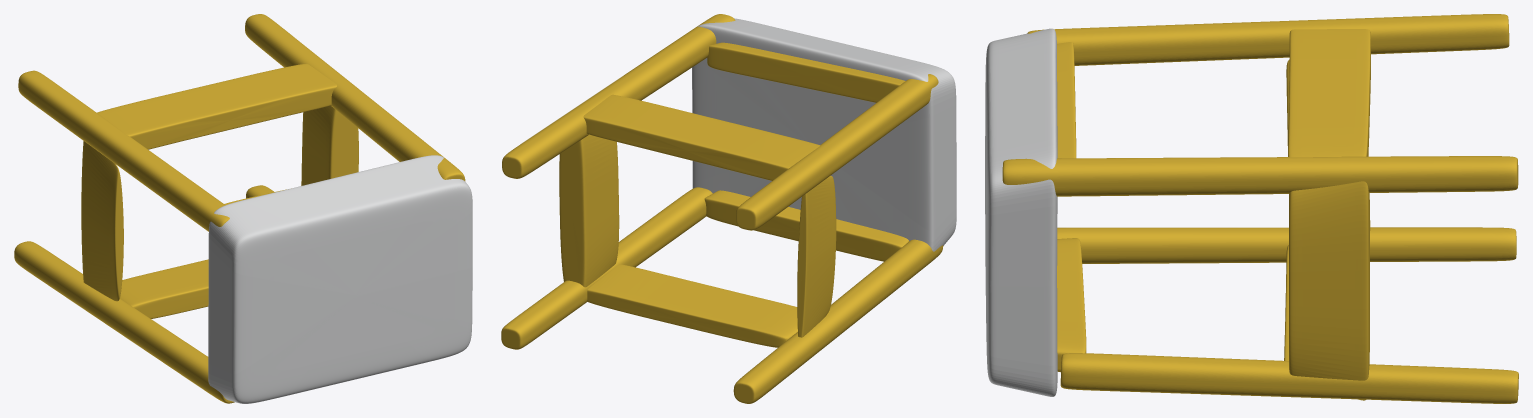
File: 7_stool.glb
The picture shows the model from 3 angles, left to right: view 1: azimuth 30°, elevation 25°; view 2: azimuth 150°, elevation 25°; view 3: azimuth 270°, elevation 25°; orthographic projection. The views are drawn at different scales.
Parts seen in each view (by area): view 1: superquadric_0, superquadric_3, superquadric_2, superquadric_4, superquadric_5, superquadric_10, superquadric_7, superquadric_6; view 2: superquadric_0, superquadric_3, superquadric_6, superquadric_7, superquadric_2, superquadric_4, superquadric_5, superquadric_1, superquadric_9, superquadric_10, superquadric_8; view 3: superquadric_0, superquadric_5, superquadric_7, superquadric_1, superquadric_2, superquadric_4, superquadric_3, superquadric_8, superquadric_9.
Boxes of the visible parts, x1=… form: superquadric_0: x1=208, y1=155, x2=472, y2=403; superquadric_3: x1=97, y1=63, x2=336, y2=149; superquadric_2: x1=18, y1=70, x2=229, y2=231; superquadric_4: x1=14, y1=241, x2=234, y2=403; superquadric_5: x1=245, y1=14, x2=465, y2=181; superquadric_10: x1=81, y1=141, x2=123, y2=301; superquadric_7: x1=301, y1=105, x2=358, y2=185; superquadric_6: x1=120, y1=259, x2=208, y2=318; superquadric_0: x1=692, y1=18, x2=956, y2=251; superquadric_3: x1=583, y1=94, x2=820, y2=180; superquadric_6: x1=587, y1=264, x2=797, y2=347; superquadric_7: x1=559, y1=134, x2=619, y2=287; superquadric_2: x1=736, y1=74, x2=938, y2=230; superquadric_4: x1=733, y1=239, x2=943, y2=403; superquadric_5: x1=502, y1=14, x2=735, y2=178; superquadric_1: x1=501, y1=187, x2=712, y2=349; superquadric_9: x1=707, y1=42, x2=905, y2=102; superquadric_10: x1=797, y1=175, x2=836, y2=337; superquadric_8: x1=704, y1=190, x2=908, y2=261; superquadric_0: x1=985, y1=28, x2=1057, y2=396; superquadric_5: x1=1002, y1=156, x2=1518, y2=196; superquadric_7: x1=1289, y1=181, x2=1369, y2=400; superquadric_1: x1=1060, y1=353, x2=1518, y2=403; superquadric_2: x1=1027, y1=14, x2=1509, y2=65; superquadric_4: x1=1057, y1=227, x2=1516, y2=263; superquadric_3: x1=1288, y1=29, x2=1370, y2=157; superquadric_8: x1=1057, y1=238, x2=1086, y2=372; superquadric_9: x1=1057, y1=42, x2=1076, y2=158.
Bounding box in the file's own units: 0.6893 × 0.5074 × 1.
